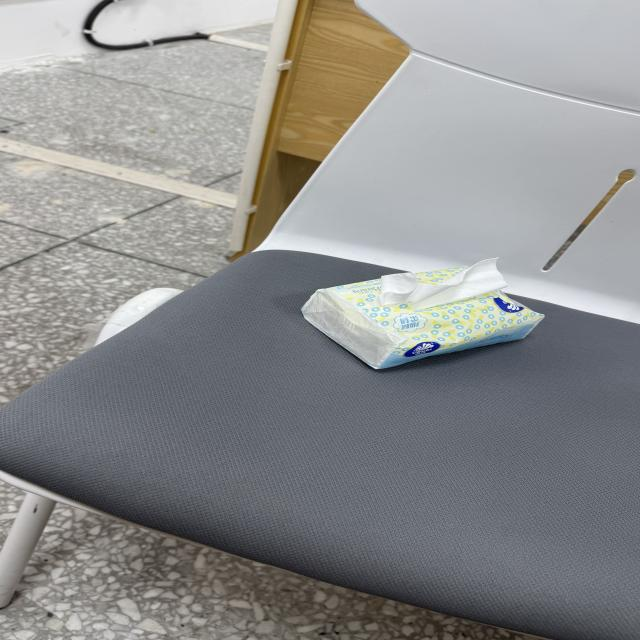tissue: (302, 259, 543, 368), (378, 259, 506, 310)
